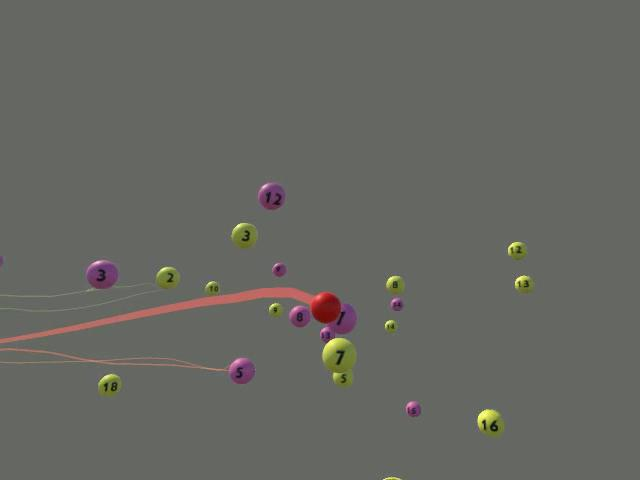ball_02_yellow: (156, 266, 179, 288)
ball_03_pink: (85, 259, 118, 289)
ball_03_yellow: (230, 222, 257, 248)
ball_05_pink: (228, 358, 254, 383)
ball_05_yellow: (332, 370, 353, 387)
ball_07_yellow: (321, 337, 356, 373)
ball_08_pink: (288, 305, 310, 327)
ball_08_yellow: (386, 275, 404, 293)
ball_09_pink: (271, 262, 286, 277)
ball_09_yellow: (268, 302, 282, 317)
ball_10_yellow: (203, 280, 220, 295)
ball_12_pink: (257, 182, 285, 210)
ball_12_yellow: (507, 241, 526, 259)
ball_13_pink: (319, 326, 334, 342)
ball_13_yellow: (514, 275, 534, 292)
ball_14_pink: (390, 298, 404, 312)
ball_14_yellow: (383, 320, 398, 333)
ball_15_pink: (405, 400, 420, 417)
ball_16_yellow: (476, 409, 504, 436), (97, 374, 122, 398)
ball_unknown: (327, 303, 356, 334), (382, 476, 402, 479), (0, 255, 3, 266)
user_cursor: (309, 290, 340, 322)
